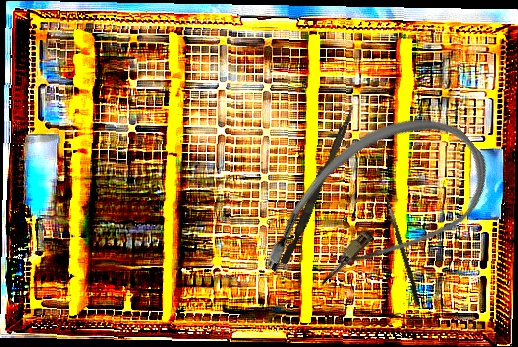Cannula: (243, 83, 508, 337)
Hook Surgical: (370, 166, 424, 306)
Pusher: (280, 103, 356, 267)
